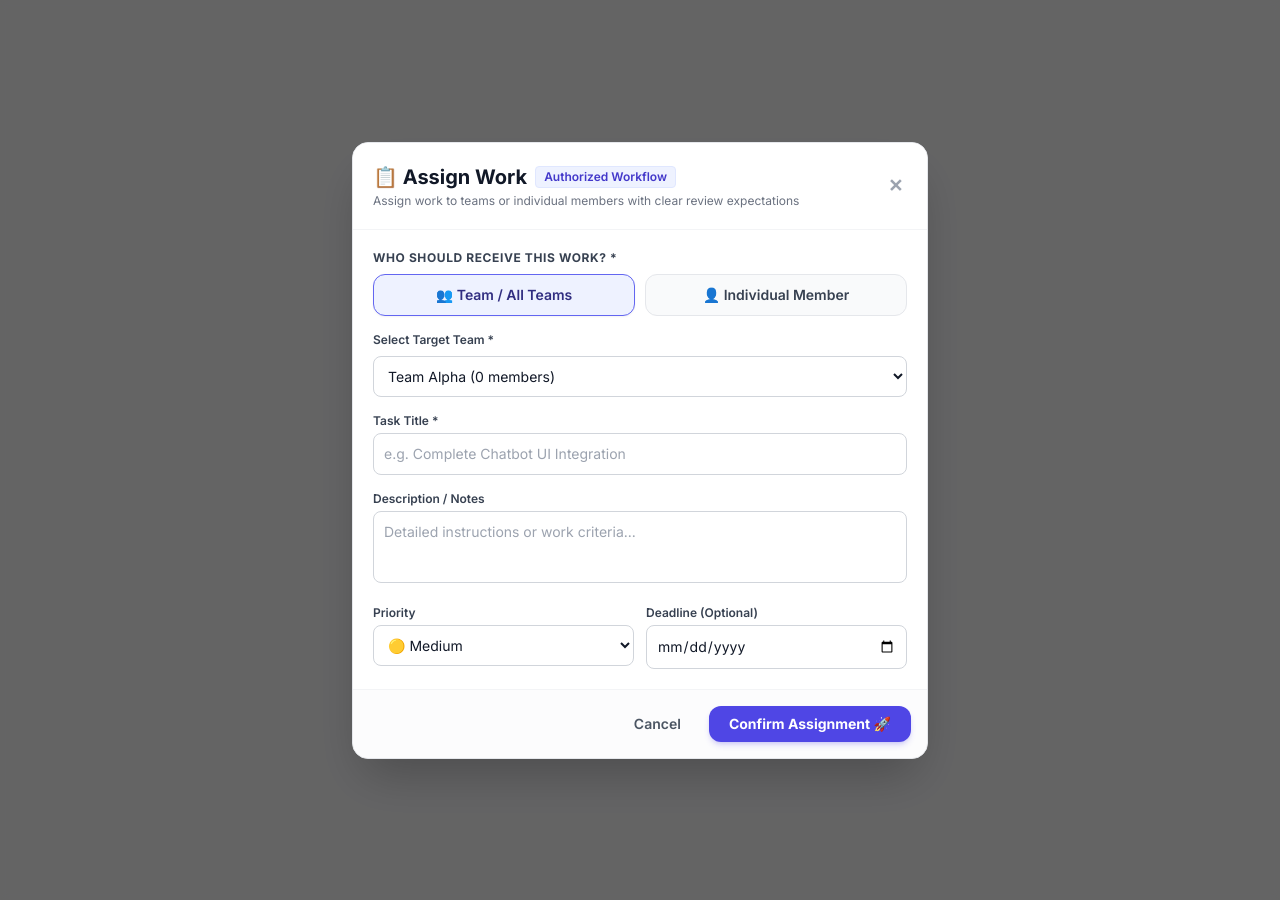
Test case: AssignWorkModal Component › allows switching between Team and Individual Member modes
Step 1. Click the button "👤 Individual Member" → (776, 294), box [645,274,907,316]
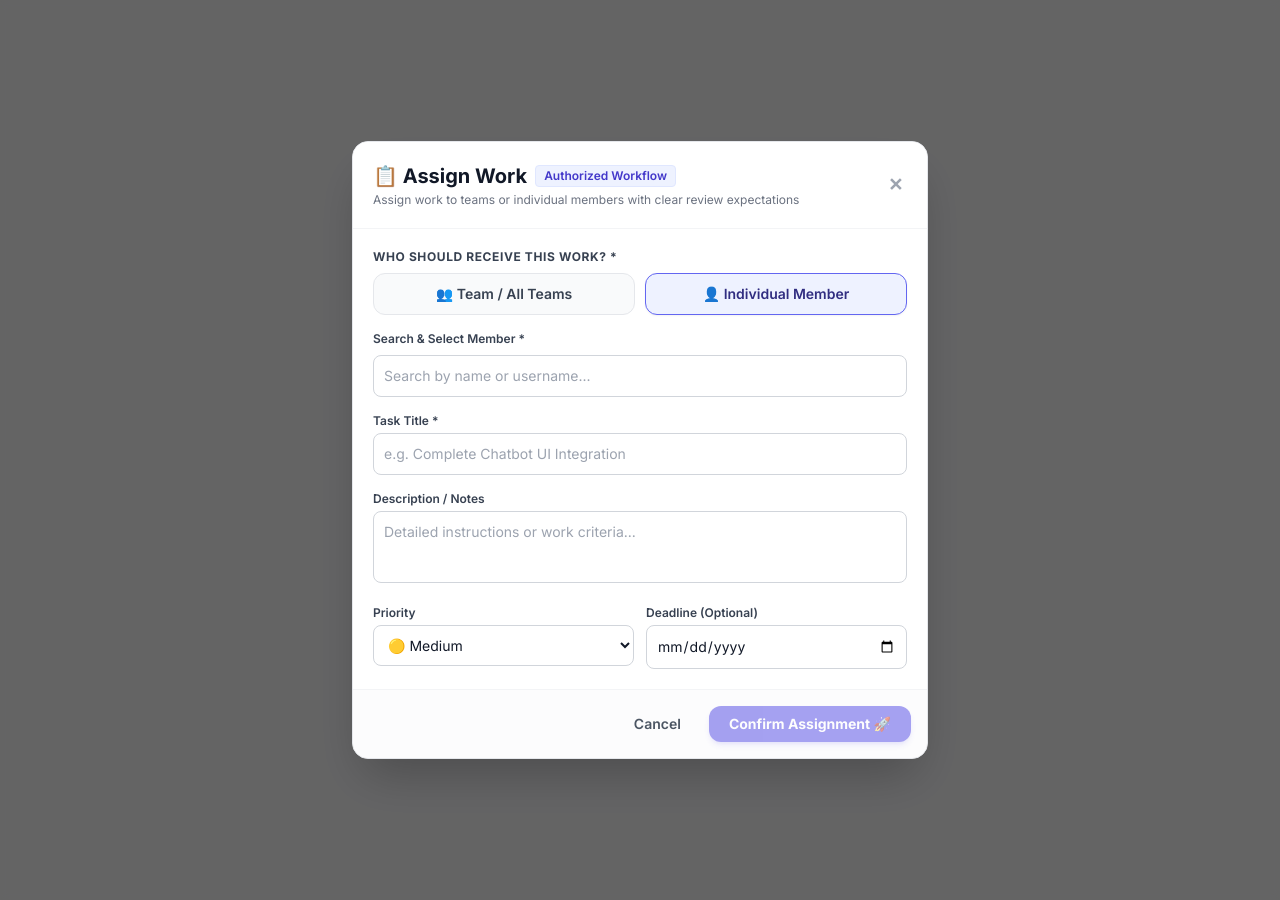
expect the field with placeholder "Search by name or username..." is shown: met, box [373,355,907,397]
